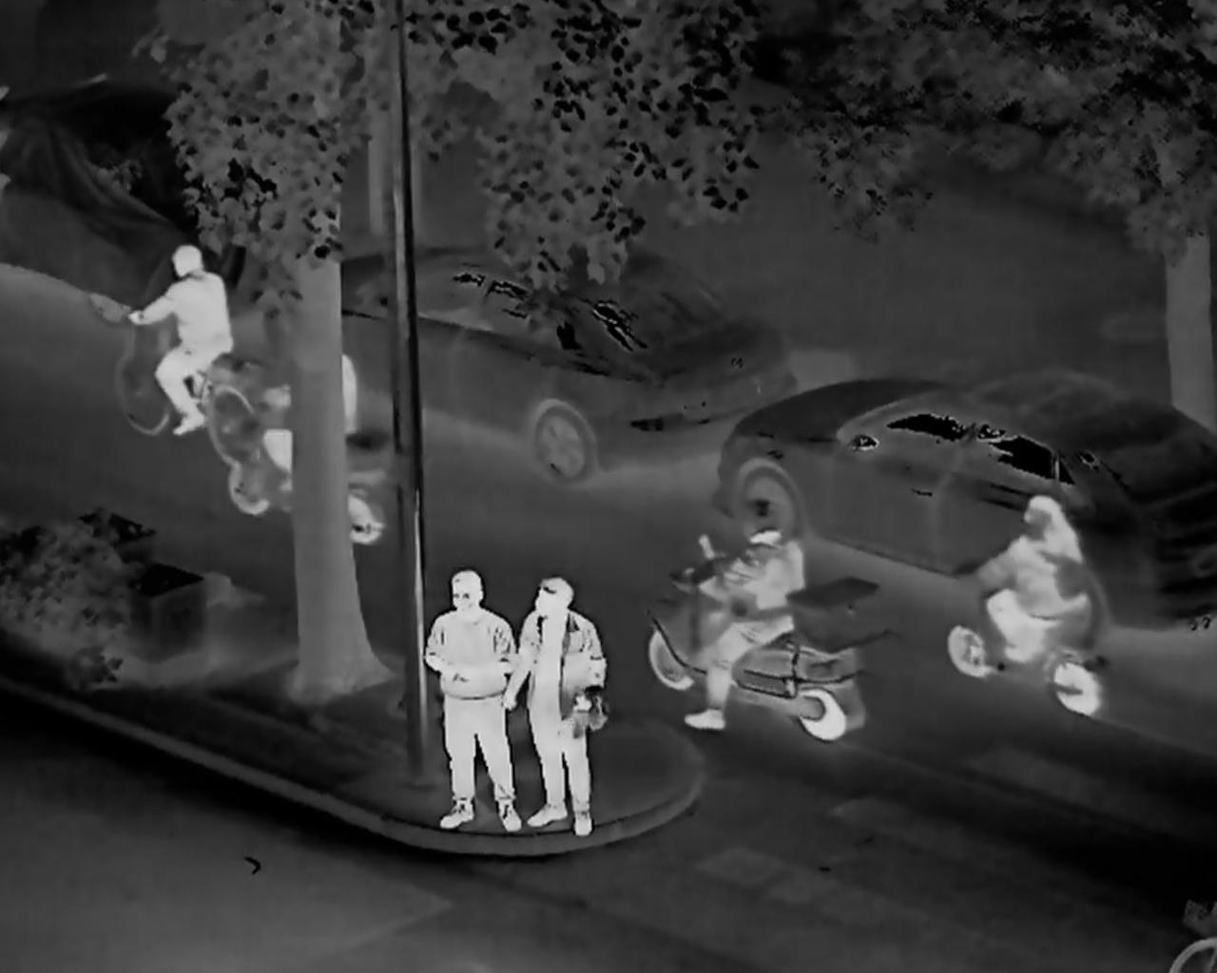person: (411, 564, 527, 829), (699, 494, 812, 751), (511, 572, 606, 834), (985, 485, 1091, 695), (133, 242, 233, 448), (276, 320, 363, 509)
